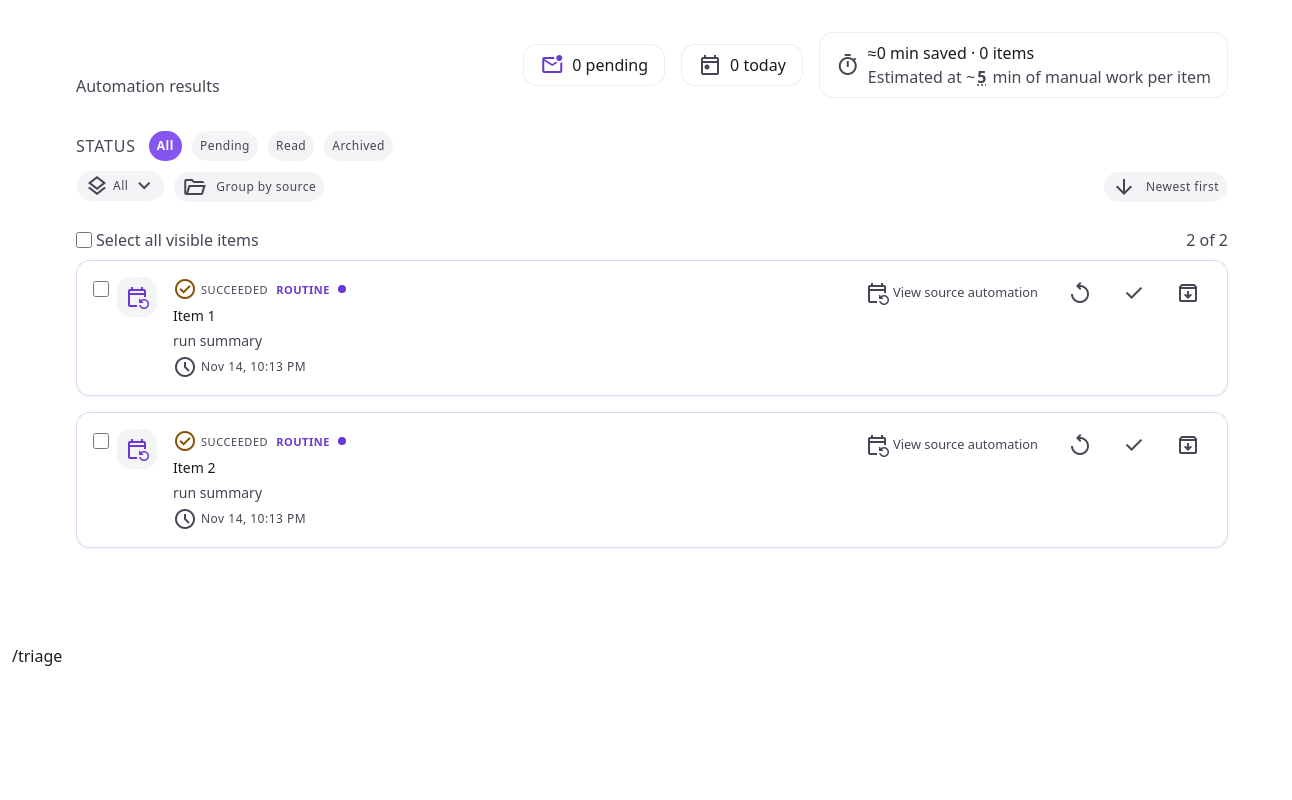
Test: Triage page (inbox) › selecting items shows the bulk action bar with the count
Click the 2nd checkbox. click: {"x": 101, "y": 289}
box: [93,281,109,297]
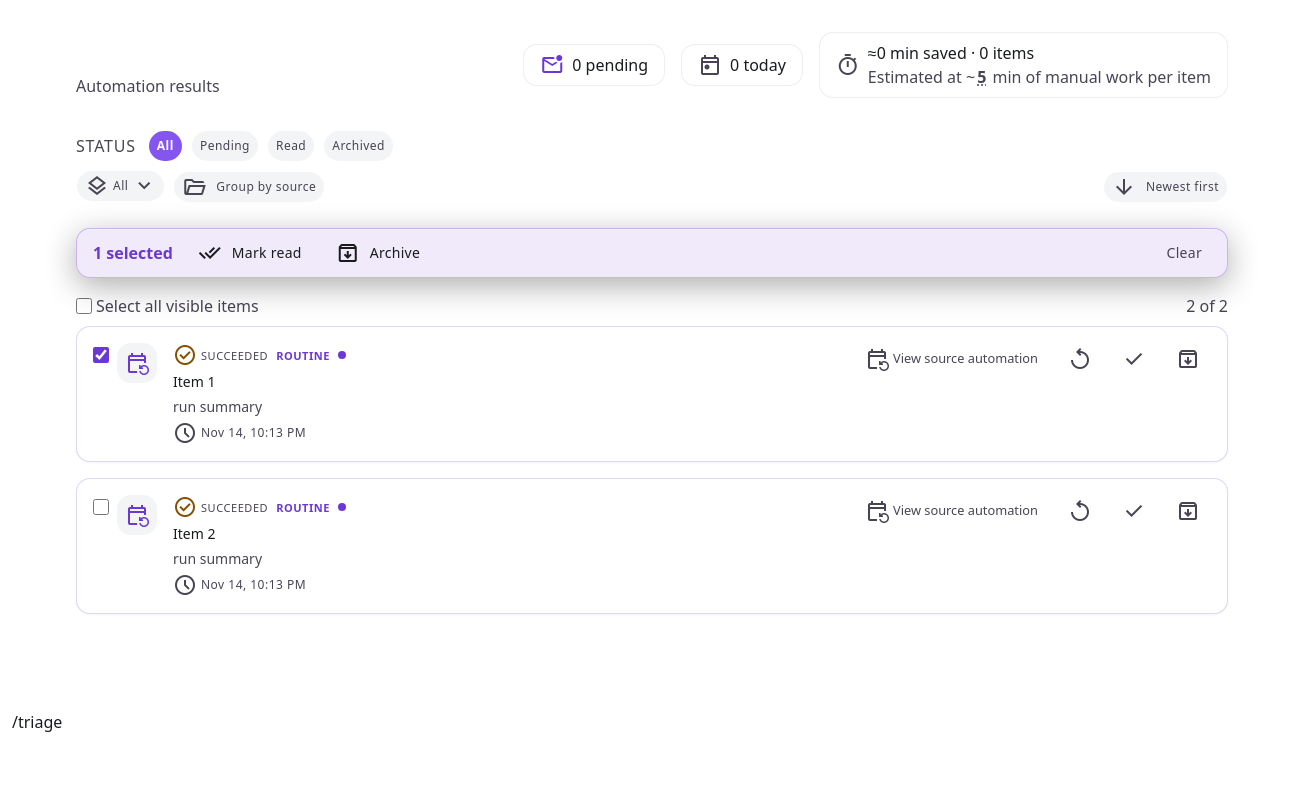
Check: the element named "Bulk actions" is shown, box [76,228,1228,278]
Check: the text "1 selected" is shown, box [93,241,173,265]
